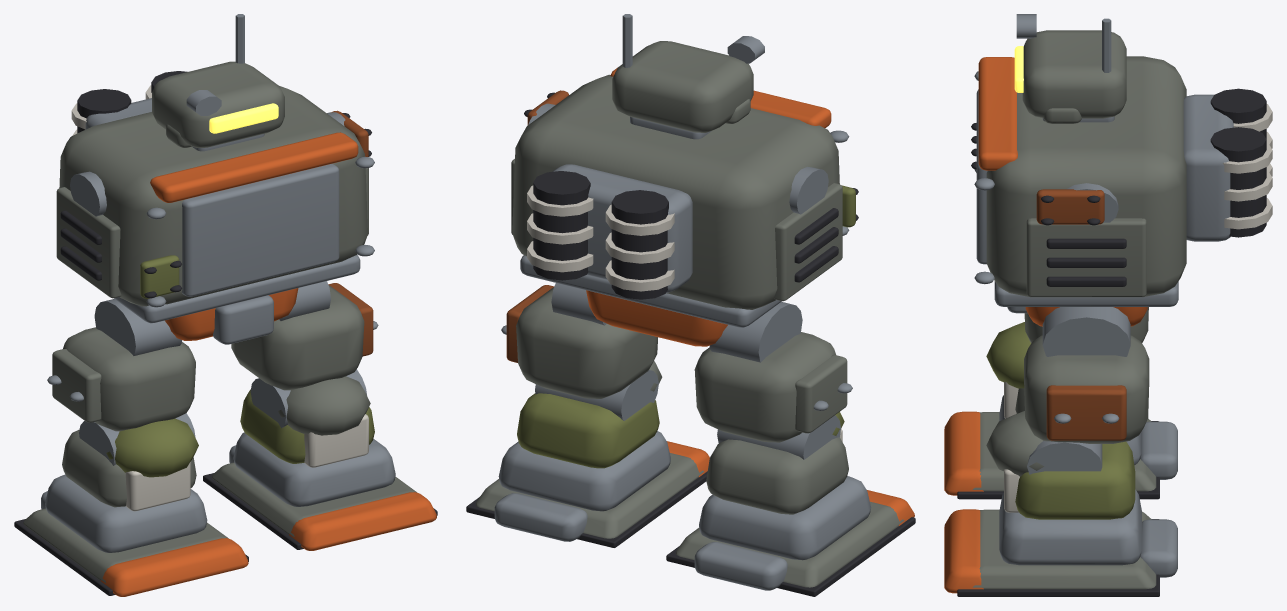
The model's file is ch_bulwark.glb.
The picture shows the model from 3 angles, left to right: view 1: azimuth 30°, elevation 25°; view 2: azimuth 150°, elevation 25°; view 3: azimuth 270°, elevation 25°; orthographic projection. The views are drawn at different scales.
Visible parts, largest first — view 1: ch_bulwark, limb_leg_l, limb_leg_r; view 2: ch_bulwark, limb_leg_l, limb_leg_r; view 3: ch_bulwark, limb_leg_r, limb_leg_l.
Boxes of the visible parts, <box> form: ch_bulwark: <box>56,14,374,344</box>; limb_leg_l: <box>14,299,248,596</box>; limb_leg_r: <box>203,281,437,550</box>; ch_bulwark: <box>511,14,858,346</box>; limb_leg_l: <box>666,302,915,596</box>; limb_leg_r: <box>466,283,709,547</box>; ch_bulwark: <box>971,14,1272,326</box>; limb_leg_r: <box>944,307,1177,596</box>; limb_leg_l: <box>944,307,1177,499</box>.
Bounding box in the file's own units: 0.5629 × 0.7856 × 0.4572.
